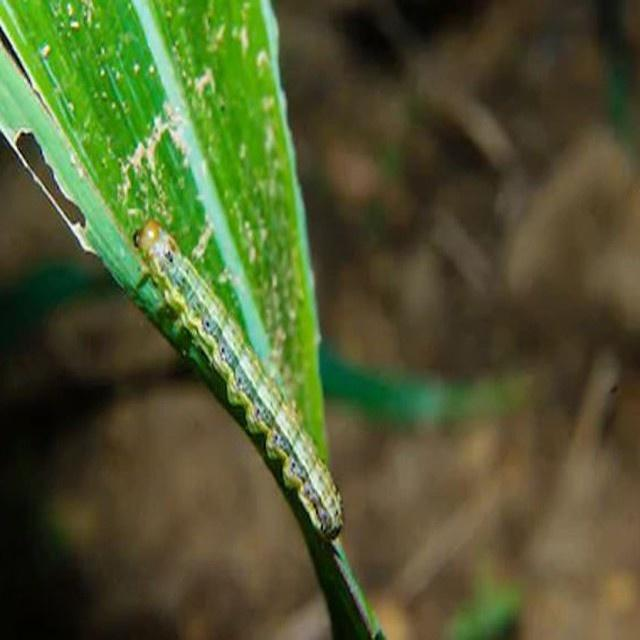gusano_cogollero: (126, 214, 350, 547)
